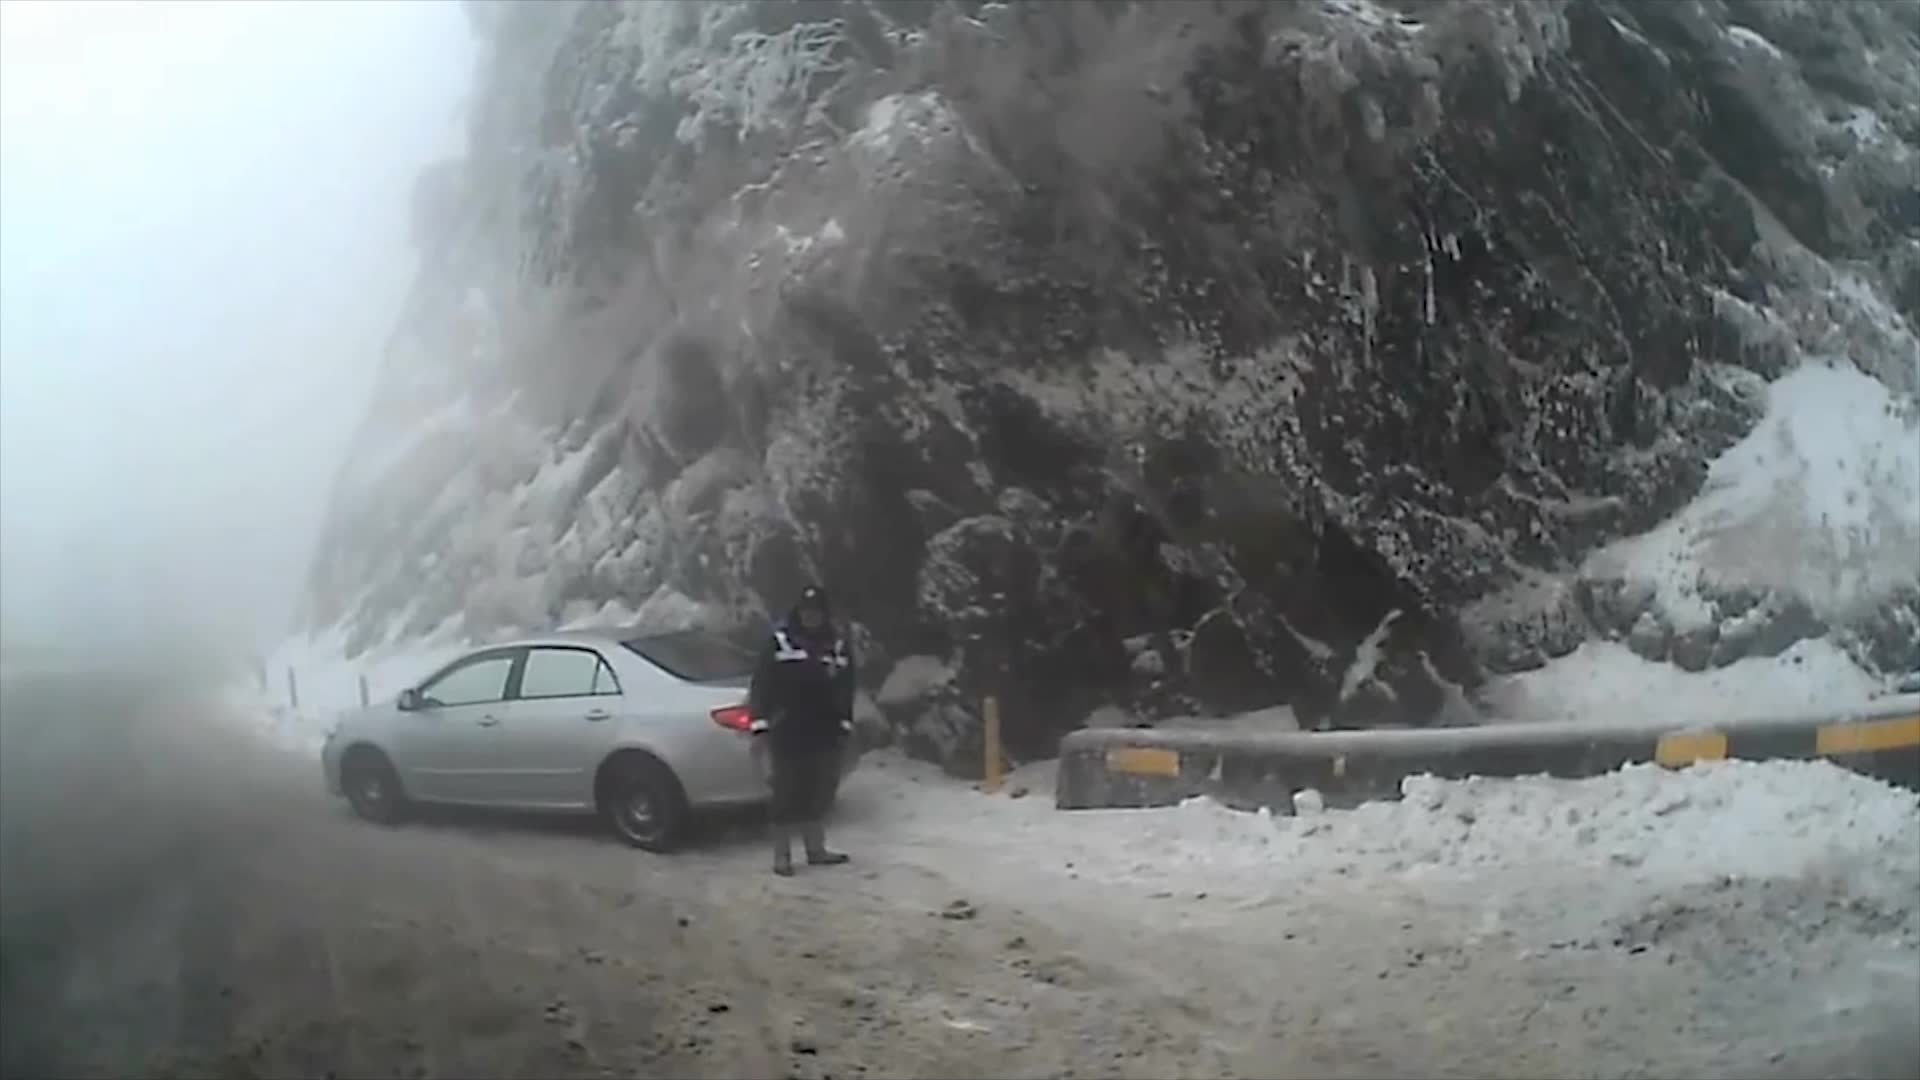pedestrian: (749, 585, 860, 879)
vehicle: (319, 623, 863, 855)
